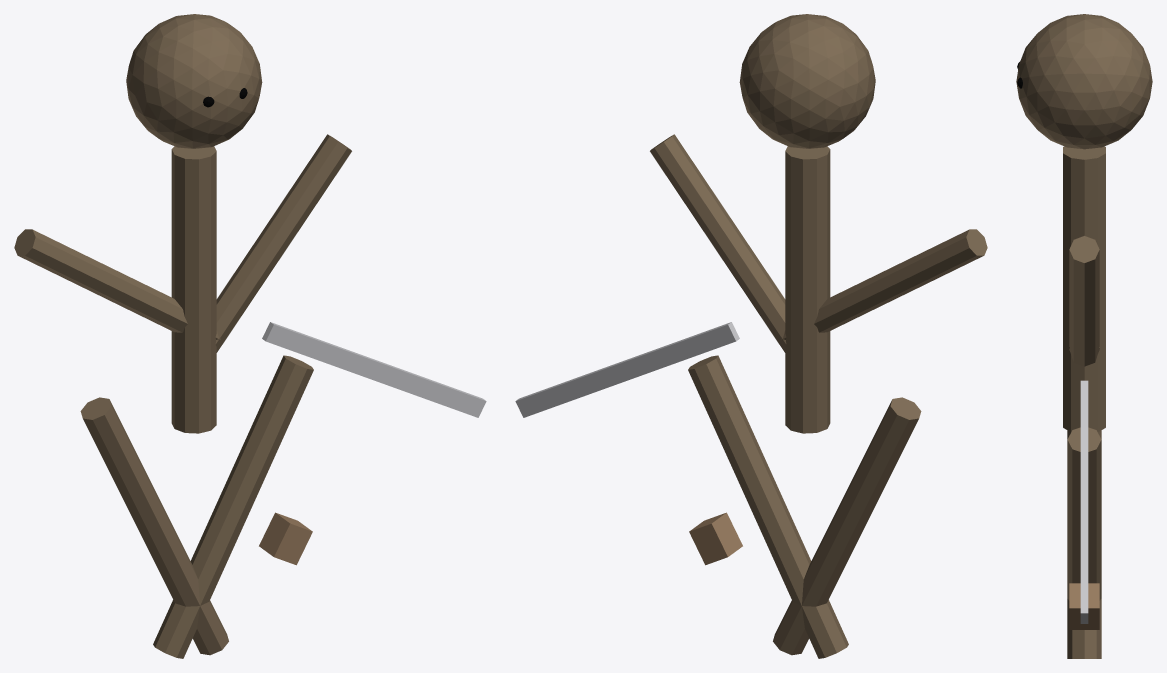
The model's file is dummy_stick_neutral.glb.
3 renders of one model, left to right at view 1: azimuth 30°, elevation 25°; view 2: azimuth 150°, elevation 25°; view 3: azimuth 270°, elevation 25°, orthographic.
Visible parts, largest first — view 1: head, torso, leg_r, leg_l, arm_r, arm_l, blade, hilt; view 2: head, torso, leg_r, leg_l, arm_r, arm_l, blade, hilt; view 3: head, torso, leg_r, arm_r, blade, leg_l, hilt.
Part boxes in pixels (<box>): head: <box>126,14,262,148</box>; torso: <box>171,146,216,433</box>; leg_r: <box>153,355,313,658</box>; leg_l: <box>80,397,228,655</box>; arm_r: <box>215,134,351,352</box>; arm_l: <box>14,229,220,340</box>; blade: <box>262,322,486,417</box>; hilt: <box>259,512,312,565</box>; head: <box>739,14,875,148</box>; torso: <box>785,146,830,433</box>; leg_r: <box>688,355,848,658</box>; leg_l: <box>773,397,921,655</box>; arm_r: <box>650,134,786,352</box>; arm_l: <box>781,229,987,340</box>; blade: <box>515,322,739,417</box>; hilt: <box>689,512,742,565</box>; head: <box>1016,14,1152,149</box>; torso: <box>1063,146,1105,431</box>; leg_r: <box>1067,427,1101,600</box>; arm_r: <box>1069,236,1099,366</box>; blade: <box>1080,380,1088,623</box>; leg_l: <box>1067,430,1101,658</box>; hilt: <box>1069,583,1099,629</box>.
Bounding box in the file's own units: 1.36 × 1.76 × 0.342.
